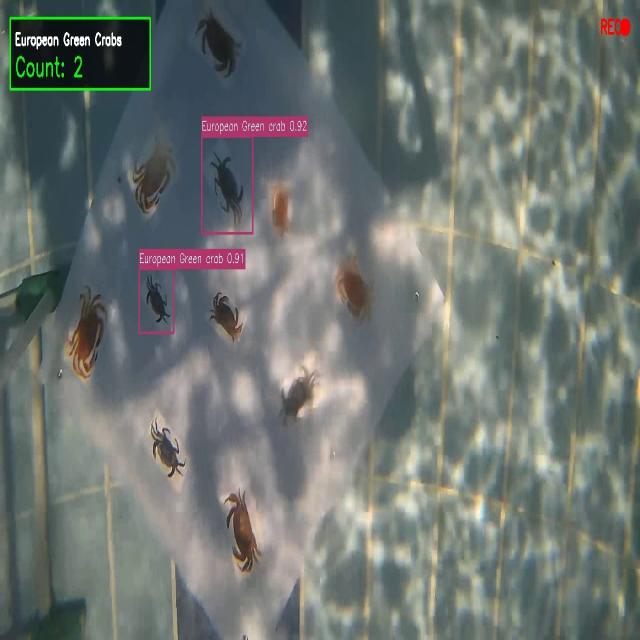European_Green_Crab: (271, 354, 329, 440), (200, 137, 248, 234), (143, 409, 189, 496), (140, 274, 177, 328)
